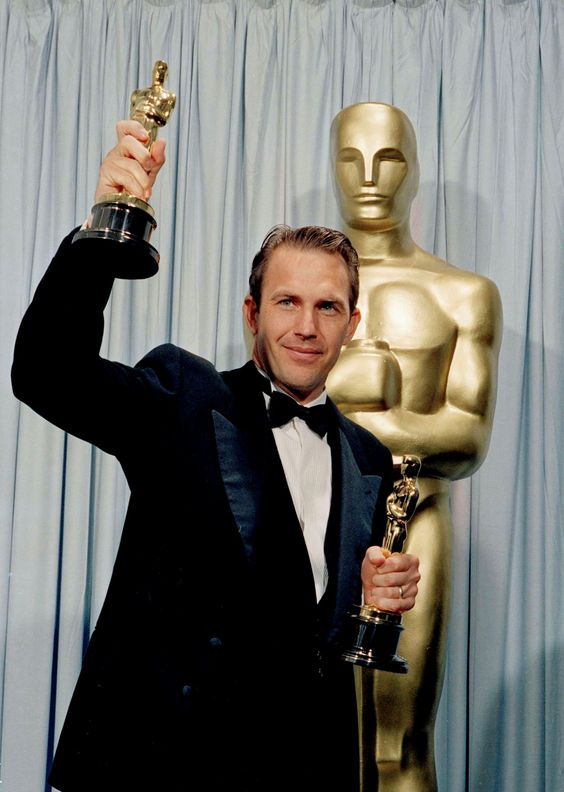hand: (361, 550, 413, 605)
